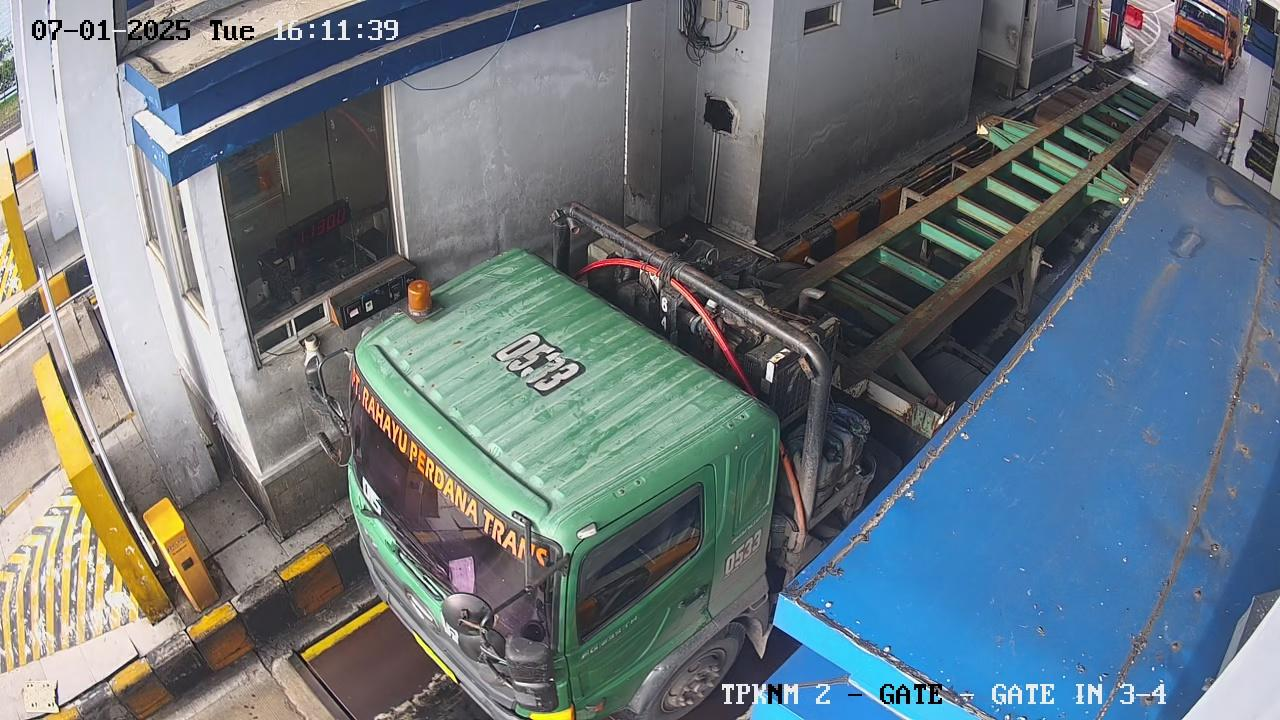truck_id: (492, 332, 585, 395), (723, 522, 767, 578)
